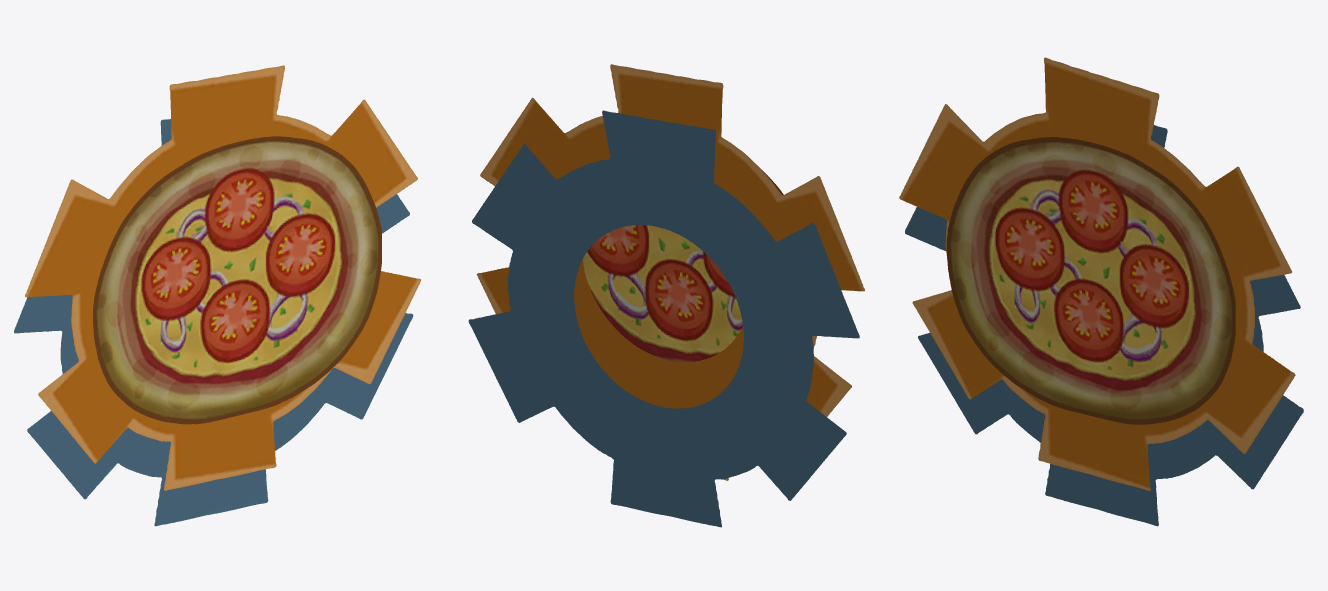
File: m_UI_LoadingIcon_01.fbx
The picture shows the model from 3 angles, left to right: view 1: azimuth 30°, elevation 25°; view 2: azimuth 150°, elevation 25°; view 3: azimuth 330°, elevation 25°; orthographic projection. The views are drawn at different scales.
Visible parts, largest first — view 1: m_LoadingIcon_02, m_LoadingIcon_01, m_lobbyarrowshadow_01; view 2: m_lobbyarrowshadow_01, m_LoadingIcon_01, m_LoadingIcon_02; view 3: m_LoadingIcon_02, m_LoadingIcon_01, m_lobbyarrowshadow_01.
Part boxes in pixels (box(x1,y1,x2,y2)): m_LoadingIcon_02: box(93, 136, 381, 424); m_LoadingIcon_01: box(25, 65, 421, 490); m_lobbyarrowshadow_01: box(14, 119, 413, 526); m_lobbyarrowshadow_01: box(468, 110, 859, 527); m_LoadingIcon_01: box(476, 64, 864, 480); m_LoadingIcon_02: box(583, 168, 783, 362); m_LoadingIcon_02: box(946, 137, 1235, 424); m_LoadingIcon_01: box(899, 57, 1295, 490); m_lobbyarrowshadow_01: box(905, 125, 1303, 526).
Bounding box in the file's own units: 0.1001 × 0.1096 × 0.00782.
